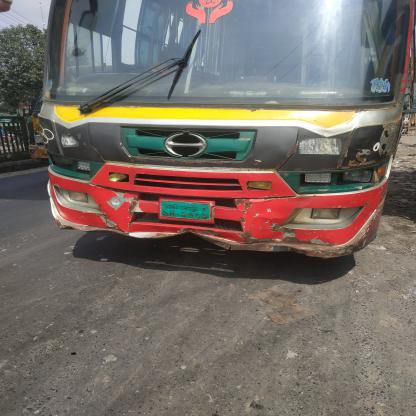license_plate: (158, 200, 215, 224)
